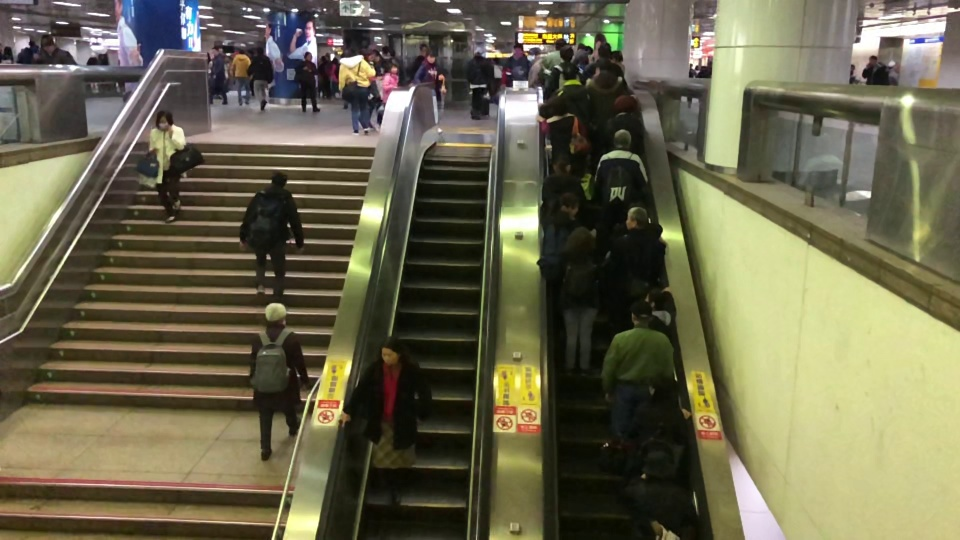person_head: (641, 450, 673, 481), (566, 226, 595, 258), (649, 376, 679, 405), (378, 336, 403, 366), (629, 299, 653, 327), (624, 206, 648, 231), (263, 301, 287, 325), (558, 190, 580, 216), (611, 94, 638, 114), (611, 128, 633, 150), (643, 287, 663, 311), (547, 94, 567, 117), (551, 153, 572, 174), (154, 109, 174, 130), (270, 171, 288, 189), (598, 57, 615, 76), (558, 44, 575, 62), (561, 64, 577, 82), (39, 34, 55, 52), (525, 47, 541, 63), (572, 50, 589, 65), (598, 42, 612, 57), (423, 49, 436, 65), (386, 61, 399, 75), (609, 50, 623, 62), (554, 37, 566, 51), (512, 44, 524, 58), (343, 47, 356, 58), (418, 43, 428, 57), (302, 50, 313, 62), (886, 59, 896, 70), (474, 45, 483, 57), (367, 50, 375, 63), (868, 55, 877, 66), (2, 46, 13, 55), (318, 55, 327, 65), (211, 46, 219, 57), (255, 46, 264, 55), (381, 45, 389, 55), (331, 56, 339, 66), (246, 49, 254, 58), (27, 40, 36, 48), (492, 57, 499, 65), (324, 51, 330, 60), (238, 48, 245, 55), (217, 46, 223, 54), (850, 64, 855, 72), (706, 61, 711, 69), (694, 65, 699, 70), (689, 63, 692, 69)
person_vbox: (338, 336, 433, 508), (598, 300, 674, 451), (535, 225, 603, 378), (249, 300, 312, 462), (238, 171, 304, 305), (599, 206, 667, 332), (619, 376, 692, 486), (536, 190, 588, 336), (594, 128, 648, 266), (620, 450, 697, 540), (534, 94, 590, 177), (147, 109, 187, 224), (575, 57, 630, 129), (336, 47, 376, 135), (537, 64, 590, 129), (408, 49, 446, 136), (598, 94, 645, 159), (540, 153, 586, 206), (543, 44, 589, 95), (245, 46, 274, 111), (466, 45, 490, 121), (643, 286, 676, 339), (500, 44, 532, 88), (298, 50, 320, 113), (34, 34, 79, 64), (538, 38, 566, 86), (229, 48, 252, 106), (367, 50, 383, 131), (208, 46, 228, 106), (583, 42, 612, 79), (381, 61, 399, 111), (525, 47, 546, 88), (407, 43, 428, 82), (861, 55, 888, 85), (488, 58, 503, 104), (572, 50, 592, 79), (379, 45, 399, 73), (217, 46, 229, 92), (609, 50, 626, 79), (317, 55, 327, 99), (246, 49, 255, 97), (329, 56, 339, 99), (686, 63, 694, 109), (324, 52, 331, 99), (887, 59, 899, 86), (0, 45, 15, 64), (702, 61, 712, 79), (26, 40, 38, 54), (849, 64, 857, 84), (693, 65, 699, 78)
